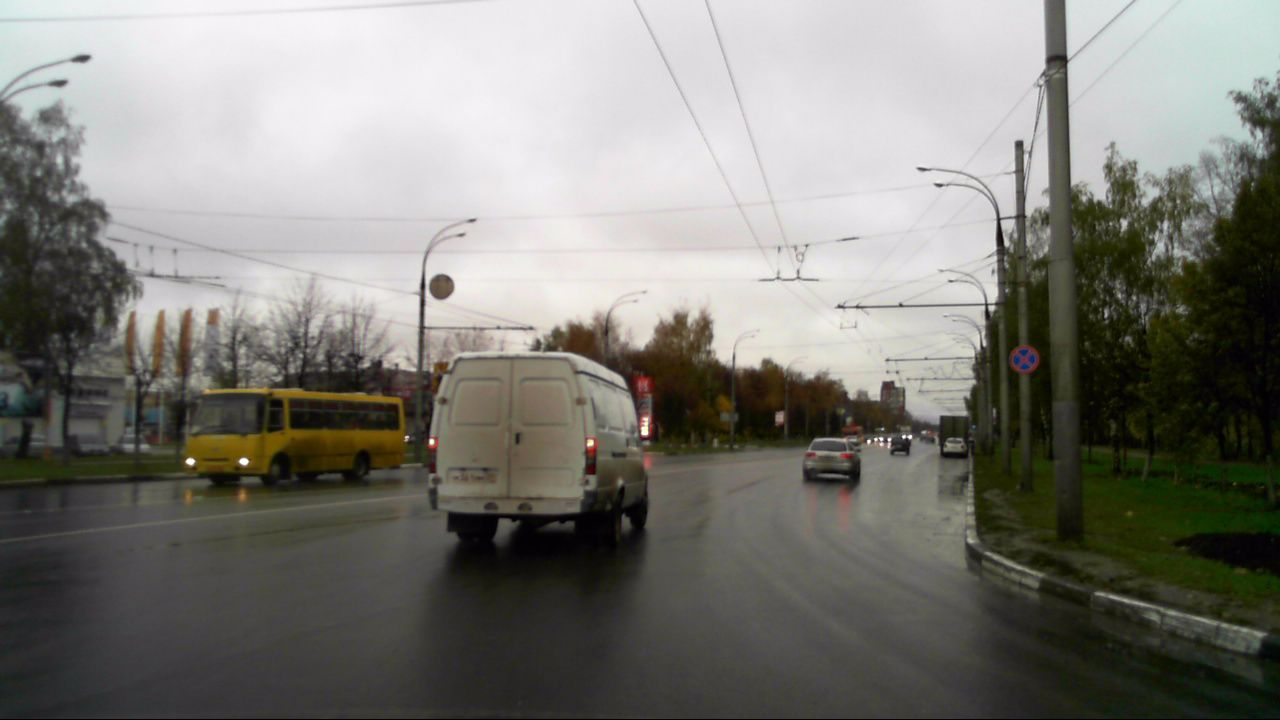No Parking: (1008, 345, 1038, 375)
